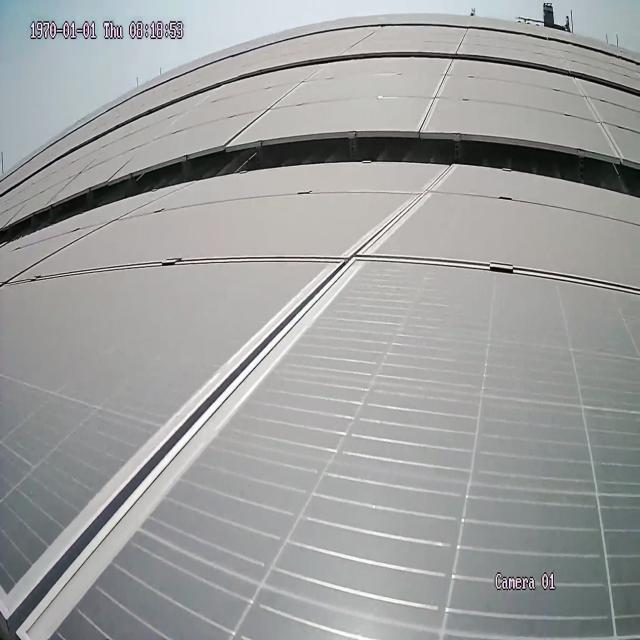interior panel: (6, 175, 639, 632), (225, 73, 315, 142), (572, 80, 621, 152), (417, 59, 456, 129)
outher panel: (0, 133, 637, 243)
